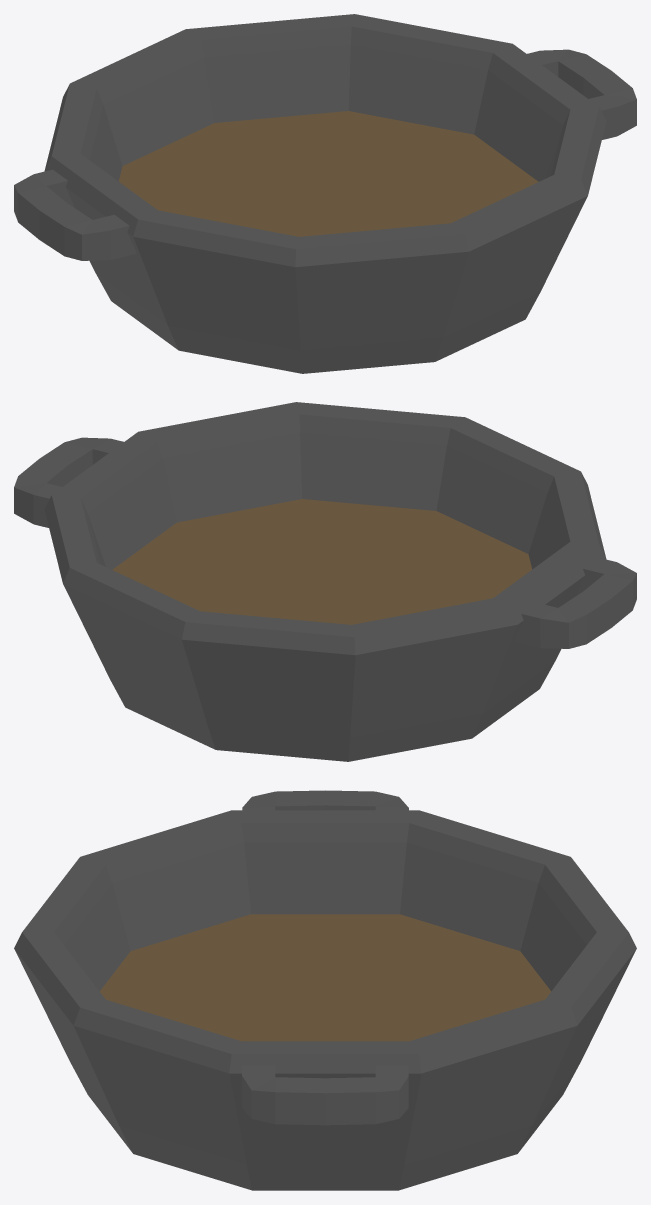
Rendered from CookingPot2_Soup.glb.
The picture shows the model from 3 angles, top to bottom: view 1: azimuth 30°, elevation 25°; view 2: azimuth 150°, elevation 25°; view 3: azimuth 270°, elevation 25°; orthographic projection. The views are drawn at different scales.
Parts seen in each view (by area): view 1: CookingPot2_Soup; view 2: CookingPot2_Soup; view 3: CookingPot2_Soup.
Part boxes in pixels (x1,y1,x2,y2): CookingPot2_Soup: (14, 14, 636, 373); CookingPot2_Soup: (14, 402, 636, 761); CookingPot2_Soup: (14, 790, 636, 1190).
Bounding box in the file's own units: 2.29 × 0.6225 × 1.99.
